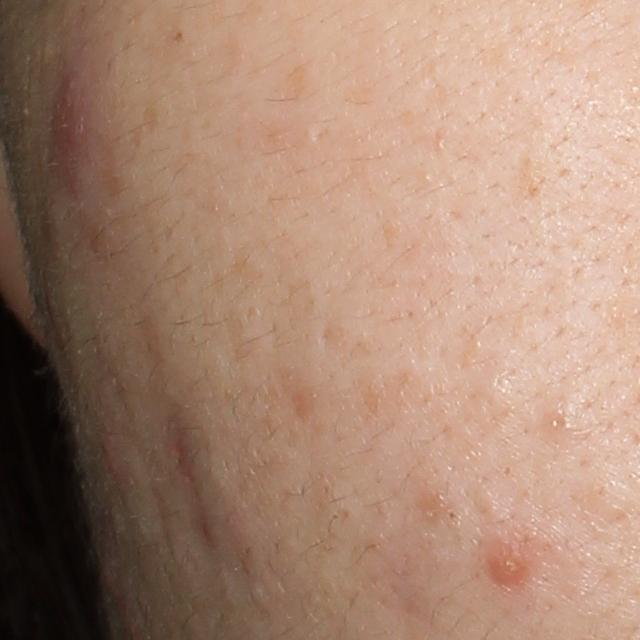papule: (43, 63, 100, 188)
